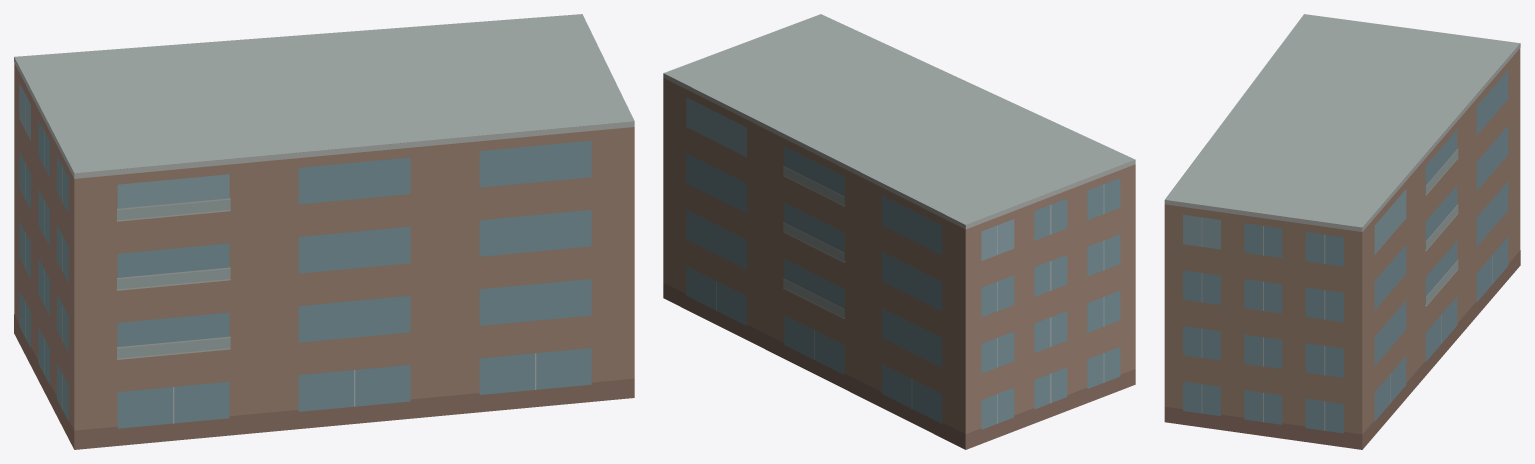
File: survey-upis-32947090.glb
3 renders of one model, left to right at view 1: azimuth 30°, elevation 25°; view 2: azimuth 150°, elevation 25°; view 3: azimuth 270°, elevation 25°, orthographic. The views are drawn at different scales.
Visible parts, largest first — view 1: survey-upis-32947090.tmp; view 2: survey-upis-32947090.tmp; view 3: survey-upis-32947090.tmp.
Boxes of the visible parts, left/top/right/bottom form: survey-upis-32947090.tmp: left=14, top=14, right=634, bottom=449; survey-upis-32947090.tmp: left=663, top=14, right=1135, bottom=449; survey-upis-32947090.tmp: left=1164, top=14, right=1520, bottom=449.
Size of the model in its own units: 24.93 by 12.1 by 17.56.
